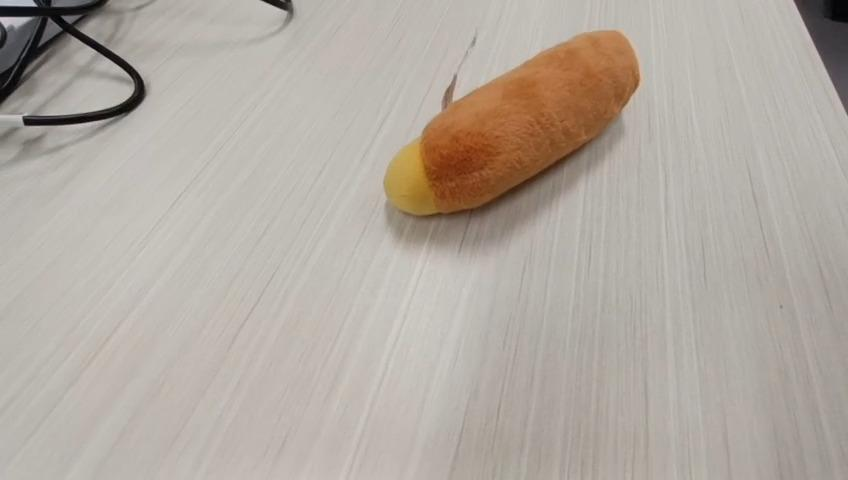hotdog: (382, 28, 640, 217)
